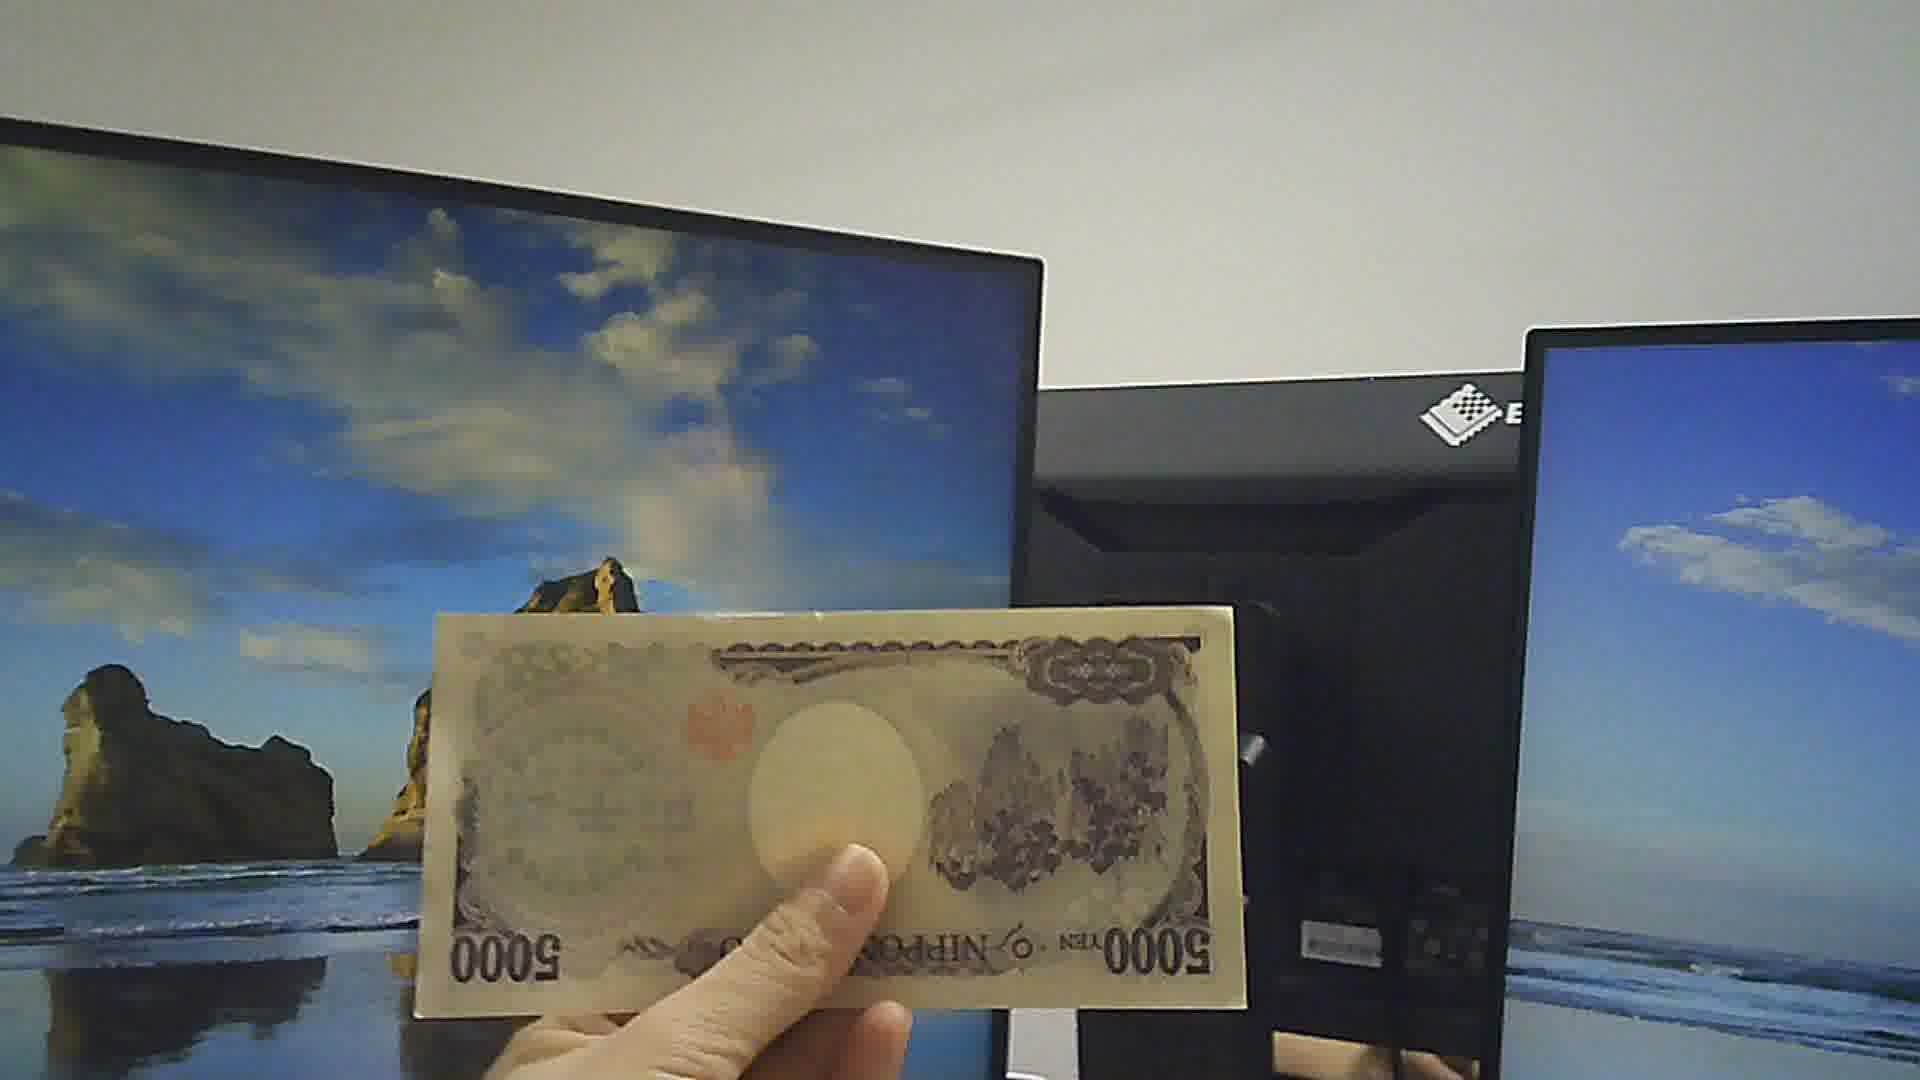5,000 Yen: (421, 596, 1265, 1014)
